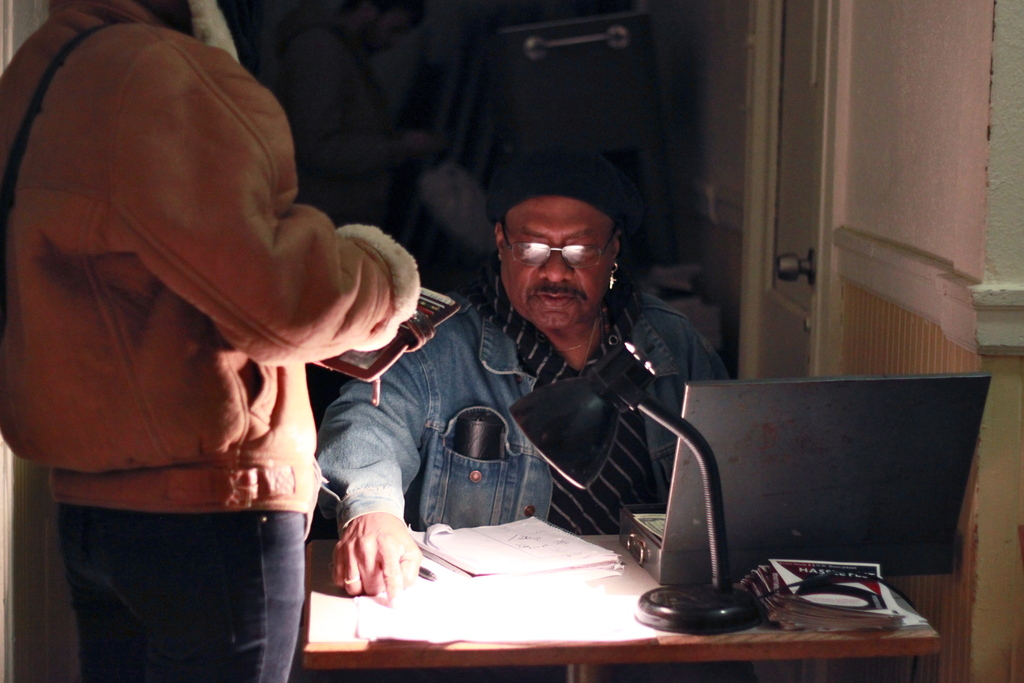Human_hand: (330, 506, 415, 605)
